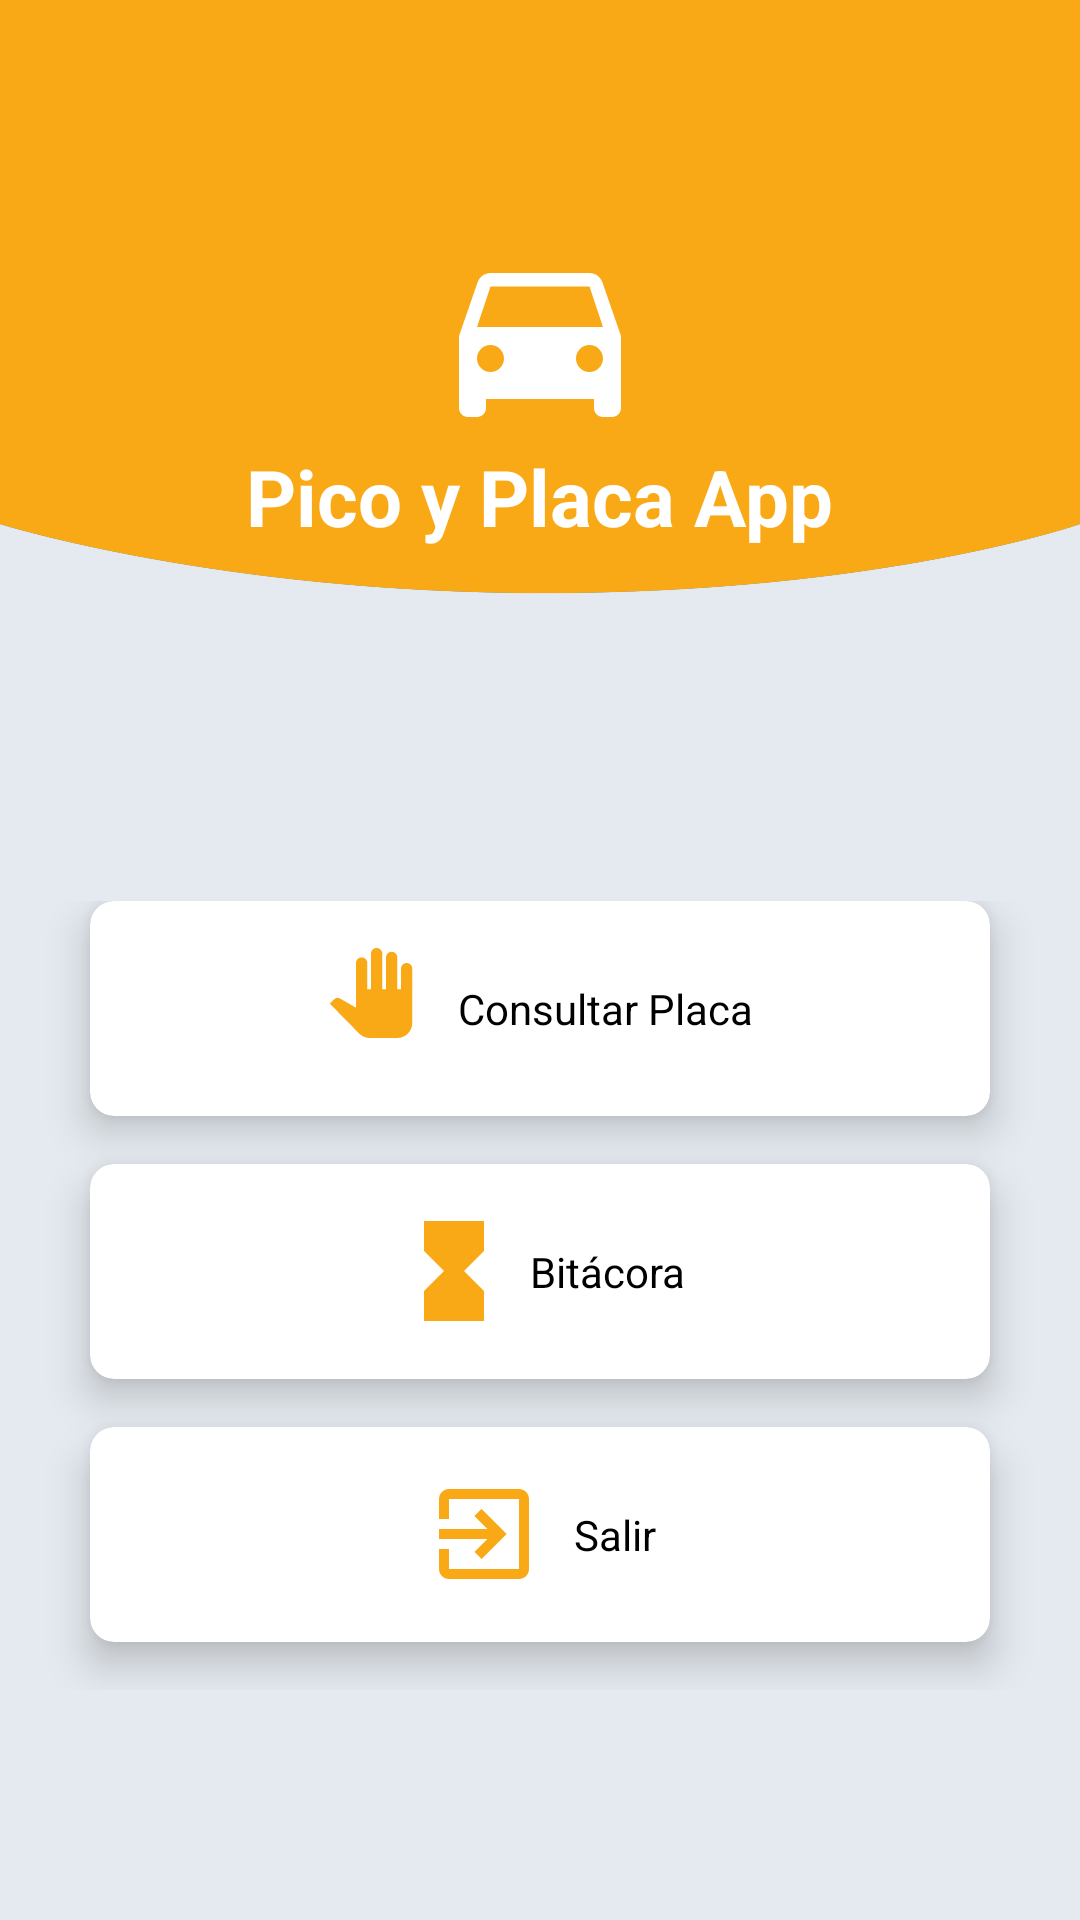

Icon click points for this 1080px x 1920px phone screenshot, format (x,y):
directions car: (540,345)
exit to app: (484,1534)
restriction: (371,993)
